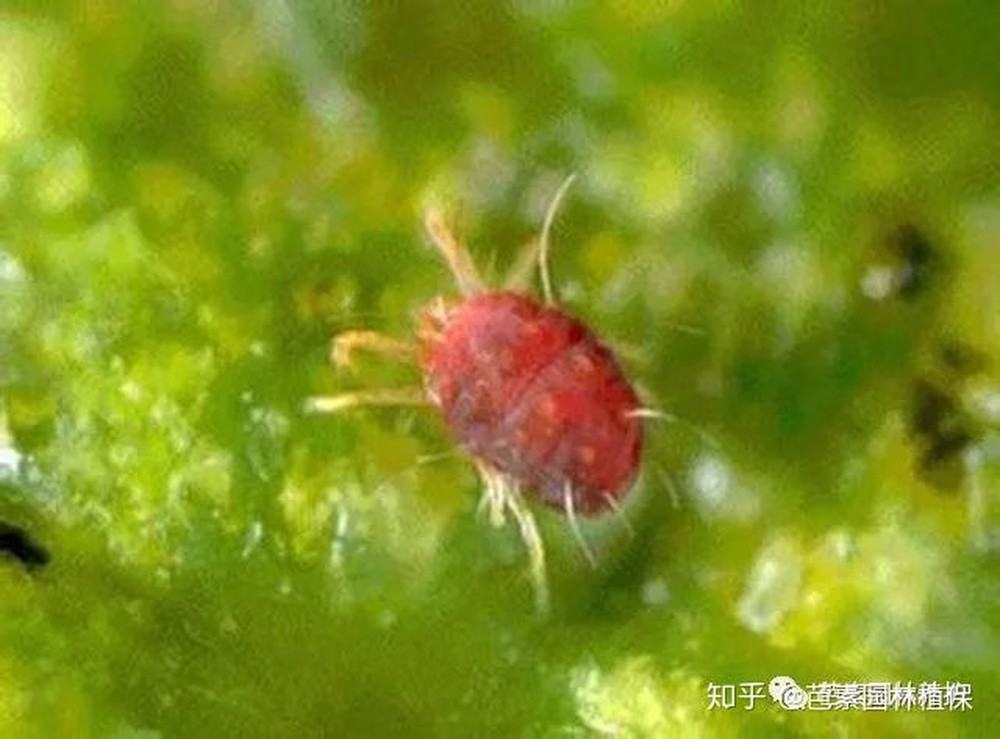Aracnido Rojo: (292, 185, 763, 619)
